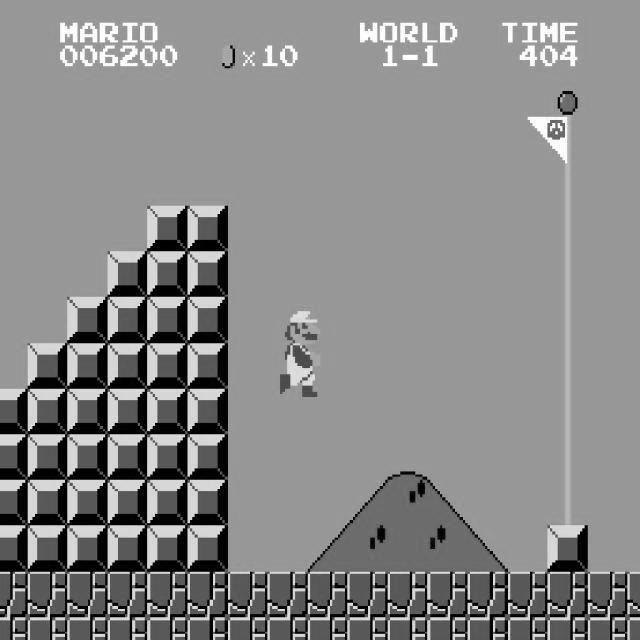17- undestructible_block: (27, 572, 68, 618), (67, 572, 108, 618), (107, 572, 148, 618), (147, 572, 188, 618), (187, 572, 228, 618), (227, 572, 268, 618), (267, 572, 308, 618), (307, 572, 348, 618), (347, 572, 388, 618), (387, 572, 428, 618), (427, 572, 468, 618), (467, 572, 508, 618), (507, 572, 548, 618), (547, 572, 588, 618), (587, 572, 628, 618), (0, 572, 28, 618), (27, 617, 68, 640), (67, 617, 108, 640), (107, 617, 148, 640), (147, 617, 188, 640), (187, 617, 228, 640), (227, 617, 268, 640), (267, 617, 308, 640), (307, 617, 348, 640), (347, 617, 388, 640), (387, 617, 428, 640), (427, 617, 468, 640), (467, 617, 508, 640), (507, 617, 548, 640), (547, 617, 588, 640), (587, 617, 628, 640), (0, 617, 28, 640), (627, 572, 640, 618), (627, 617, 640, 640)
4- fire_mario: (277, 303, 320, 397)
7- goal_pole: (547, 68, 588, 114), (547, 114, 588, 160), (547, 160, 588, 206), (547, 252, 588, 298), (547, 297, 588, 343), (547, 388, 588, 434), (547, 434, 588, 480), (547, 480, 588, 526), (547, 206, 588, 251), (547, 343, 588, 388)
9- hard_block: (27, 388, 68, 434), (27, 434, 68, 480), (27, 480, 68, 526), (27, 526, 68, 572), (67, 297, 108, 343), (67, 388, 108, 434), (67, 434, 108, 480), (67, 480, 108, 526), (67, 526, 108, 572), (107, 252, 148, 298), (107, 297, 148, 343), (107, 388, 148, 434), (107, 434, 148, 480), (107, 480, 148, 526), (107, 526, 148, 572), (147, 252, 188, 298), (147, 297, 188, 343), (147, 388, 188, 434), (147, 434, 188, 480), (147, 480, 188, 526), (147, 526, 188, 572), (187, 252, 228, 298), (187, 297, 228, 343), (187, 388, 228, 434), (187, 434, 228, 480), (187, 480, 228, 526), (187, 526, 228, 572), (547, 526, 588, 572), (27, 343, 68, 388), (67, 343, 108, 388), (107, 343, 148, 388), (147, 206, 188, 251), (147, 343, 188, 388), (187, 206, 228, 251), (187, 343, 228, 388), (0, 388, 28, 434), (0, 434, 28, 480), (0, 480, 28, 526), (0, 526, 28, 572)
